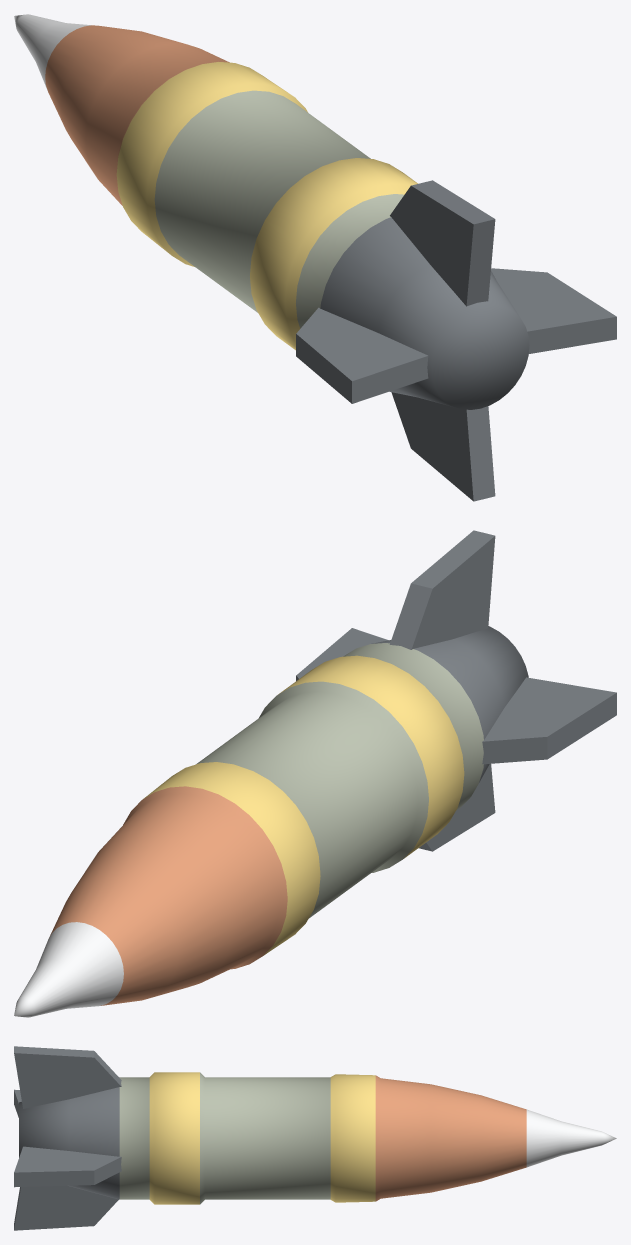
File: artillery-shell.glb
3 views of the same model, one above another, from view 1: azimuth 30°, elevation 25°; view 2: azimuth 150°, elevation 25°; view 3: azimuth 270°, elevation 25° (orthographic). The views are drawn at different scales.
Visible parts, largest first — view 1: ArtilleryShell; view 2: ArtilleryShell; view 3: ArtilleryShell.
Part boxes in pixels (<box>): ArtilleryShell: <box>14,14,616,501</box>; ArtilleryShell: <box>14,530,616,1017</box>; ArtilleryShell: <box>14,1046,616,1230</box>.
Size of the model in its own units: 0.39 by 0.39 by 1.2.
